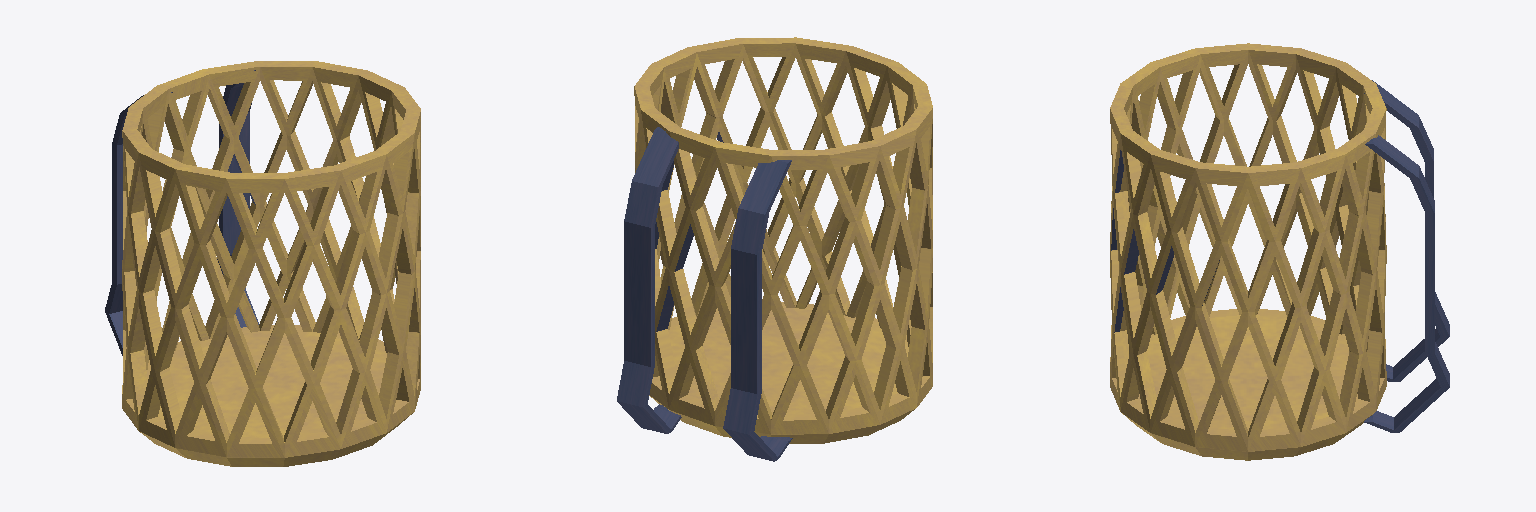
3 renders of one model, left to right at view 1: azimuth 30°, elevation 25°; view 2: azimuth 150°, elevation 25°; view 3: azimuth 270°, elevation 25°, orthographic.
Visible parts, largest first — view 1: 肩ひも２; view 2: 肩ひも２; view 3: 肩ひも２.
Part boxes in pixels (bbox=[...]): 肩ひも２: bbox=[105, 61, 420, 466]; 肩ひも２: bbox=[617, 37, 932, 461]; 肩ひも２: bbox=[1110, 43, 1449, 460].
Size of the model in its own units: 2 by 2.12 by 2.21.
3 materials, 1 textured.